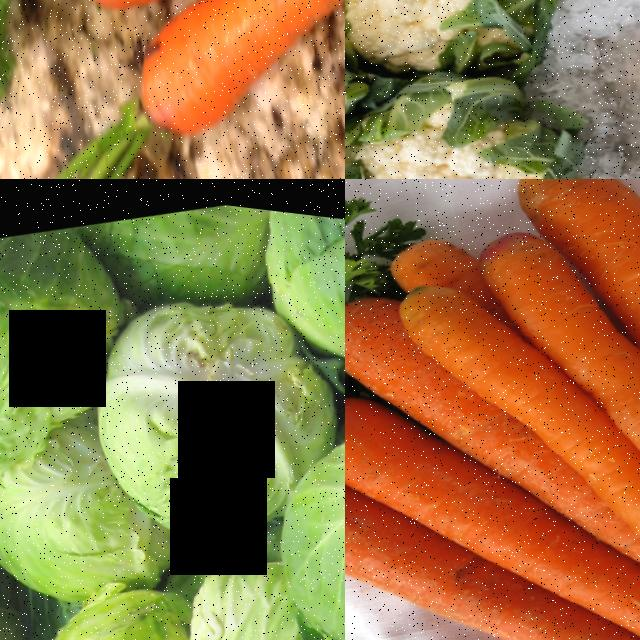cabbage: (70, 266, 326, 559), (0, 428, 163, 633), (0, 219, 96, 470), (254, 387, 345, 640), (249, 201, 345, 416), (16, 567, 243, 640), (175, 573, 345, 640)
carrot: (92, 0, 345, 159), (487, 195, 640, 434), (411, 436, 598, 603), (389, 264, 543, 444), (554, 179, 640, 342), (345, 379, 440, 520), (345, 477, 426, 640), (345, 282, 418, 396)
cauliflower: (345, 20, 629, 179)
